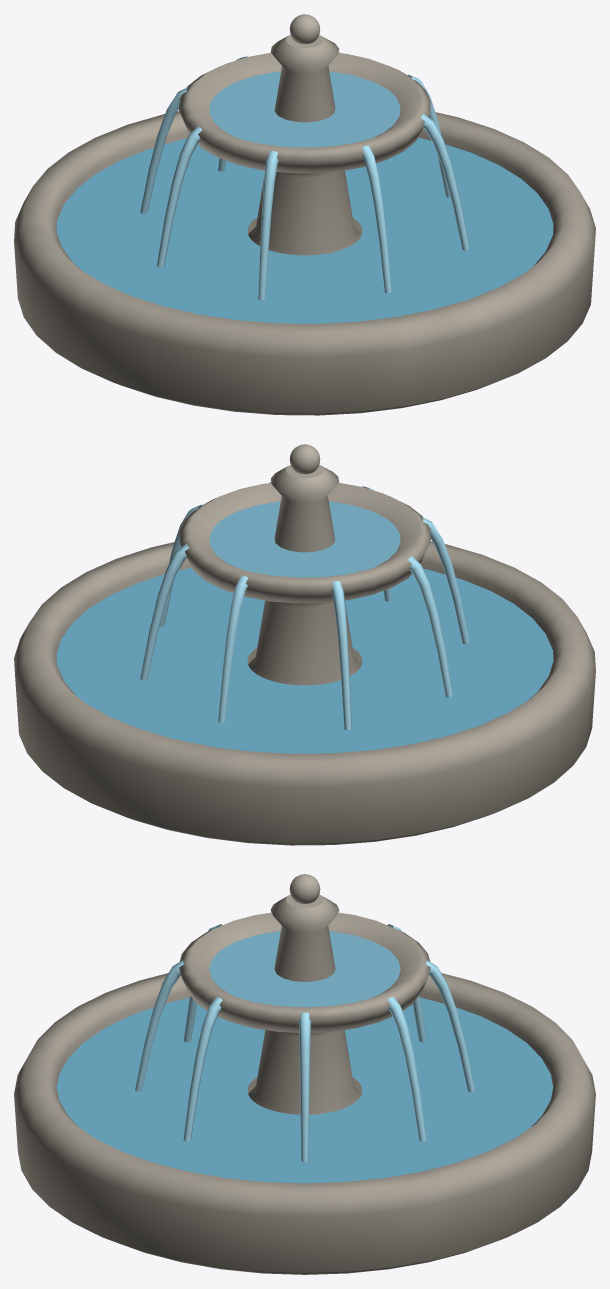
Rendered from fountain.glb.
3 views of the same model, one above another, from view 1: azimuth 30°, elevation 25°; view 2: azimuth 150°, elevation 25°; view 3: azimuth 270°, elevation 25° (orthographic).
Visible parts, largest first — view 1: fountain_stone, fountain_water; view 2: fountain_stone, fountain_water; view 3: fountain_stone, fountain_water.
Boxes of the visible parts, x1,y1,x2,y2 form: fountain_stone: (14,14,595,415); fountain_water: (56,52,553,323); fountain_stone: (14,444,595,845); fountain_water: (56,482,553,753); fountain_stone: (14,874,595,1274); fountain_water: (56,924,553,1183).
Bounding box in the file's own units: 3.04 × 1.64 × 3.04.
